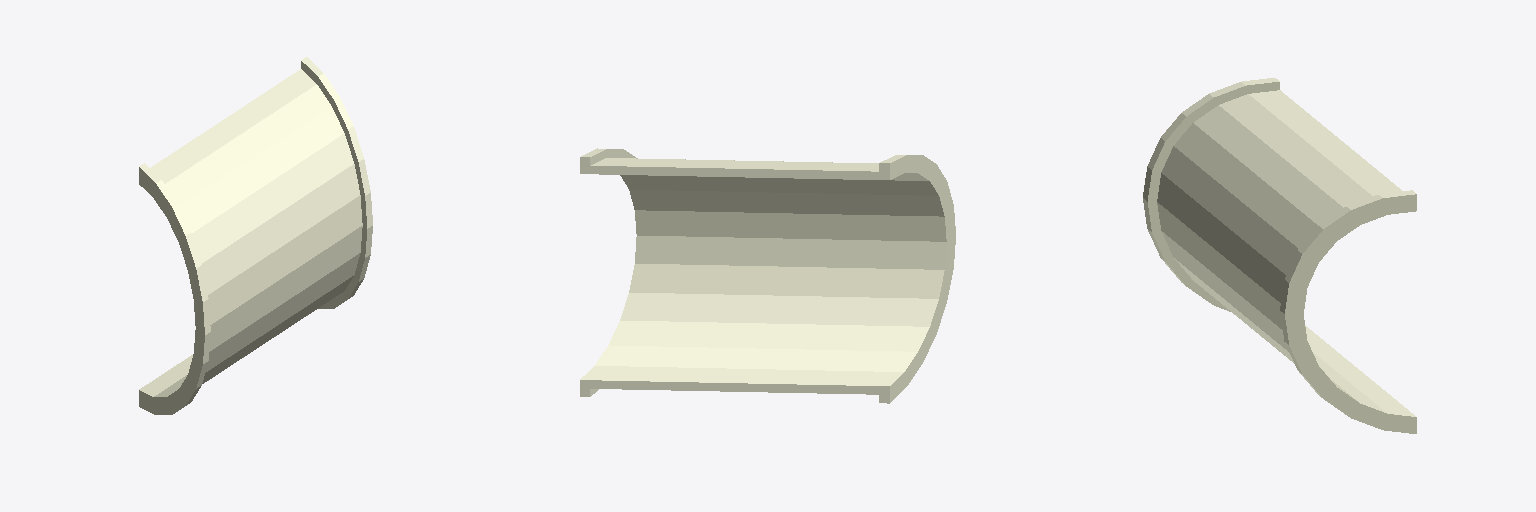
File: section_023.obj
3 views of the same model, side by side, from view 1: azimuth 30°, elevation 25°; view 2: azimuth 150°, elevation 25°; view 3: azimuth 270°, elevation 25° (orthographic).
Size of the model in its own units: 29.15 by 28 by 29.